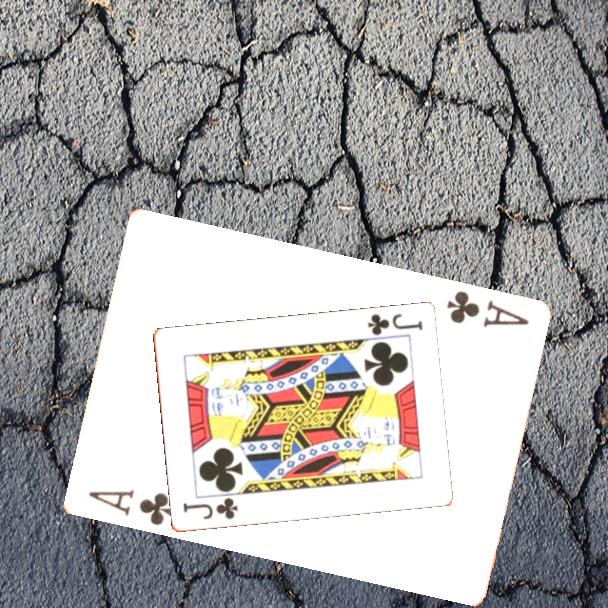c01: (442, 287, 531, 331), (85, 486, 174, 529)
c11: (179, 495, 240, 523), (364, 310, 425, 338)
